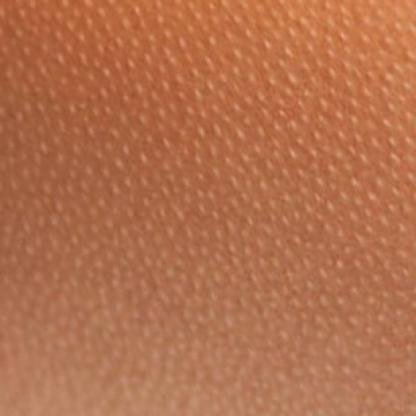Chicken Skin: (0, 1, 415, 415)
